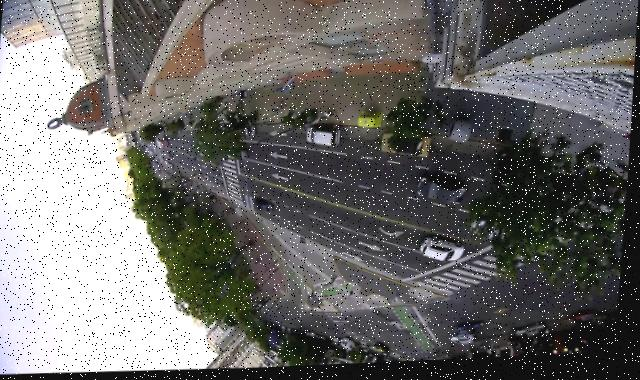bus: (158, 140, 171, 150)
car: (419, 179, 469, 210), (383, 134, 434, 162), (423, 238, 468, 266), (474, 220, 513, 247), (308, 128, 343, 150), (520, 326, 549, 341), (459, 325, 488, 340), (577, 315, 601, 330), (455, 337, 479, 350), (258, 201, 276, 215), (345, 341, 361, 353), (379, 346, 394, 356), (239, 152, 250, 162), (247, 129, 258, 138), (337, 340, 344, 348), (168, 155, 174, 159), (170, 166, 176, 170), (168, 164, 173, 168), (166, 162, 170, 166), (163, 160, 167, 164), (162, 153, 165, 157)
